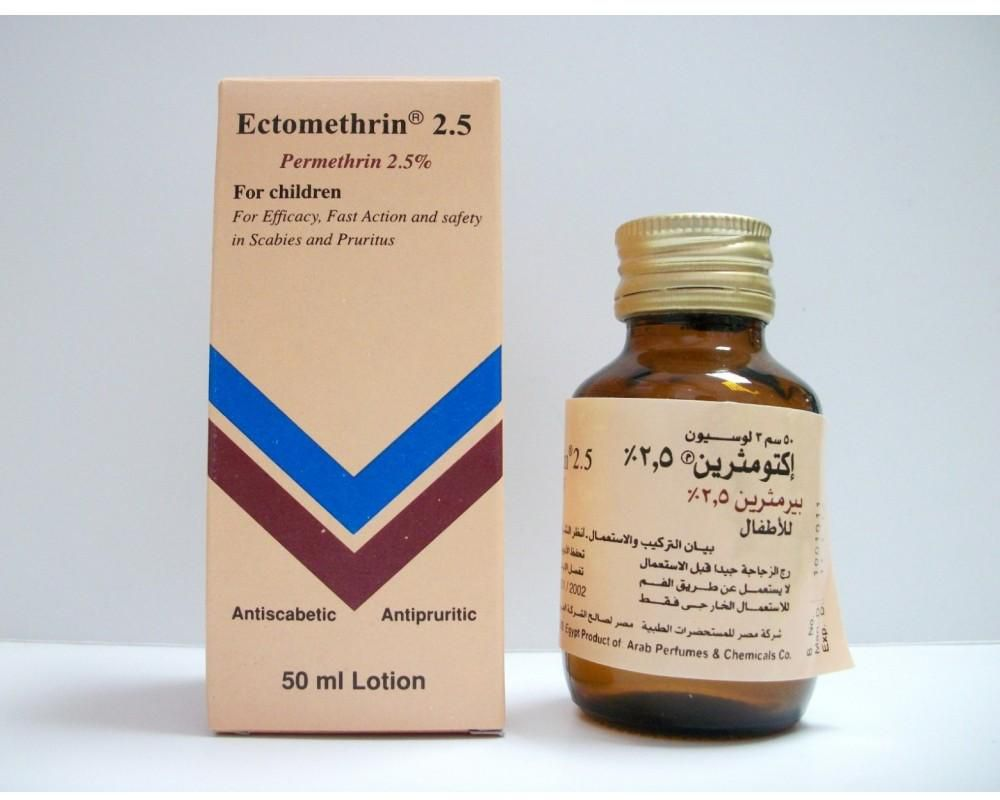Medicine: (202, 62, 512, 744), (554, 196, 854, 740)
